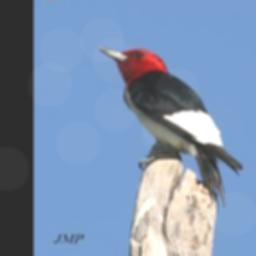Woodpecker: (92, 45, 248, 208)
